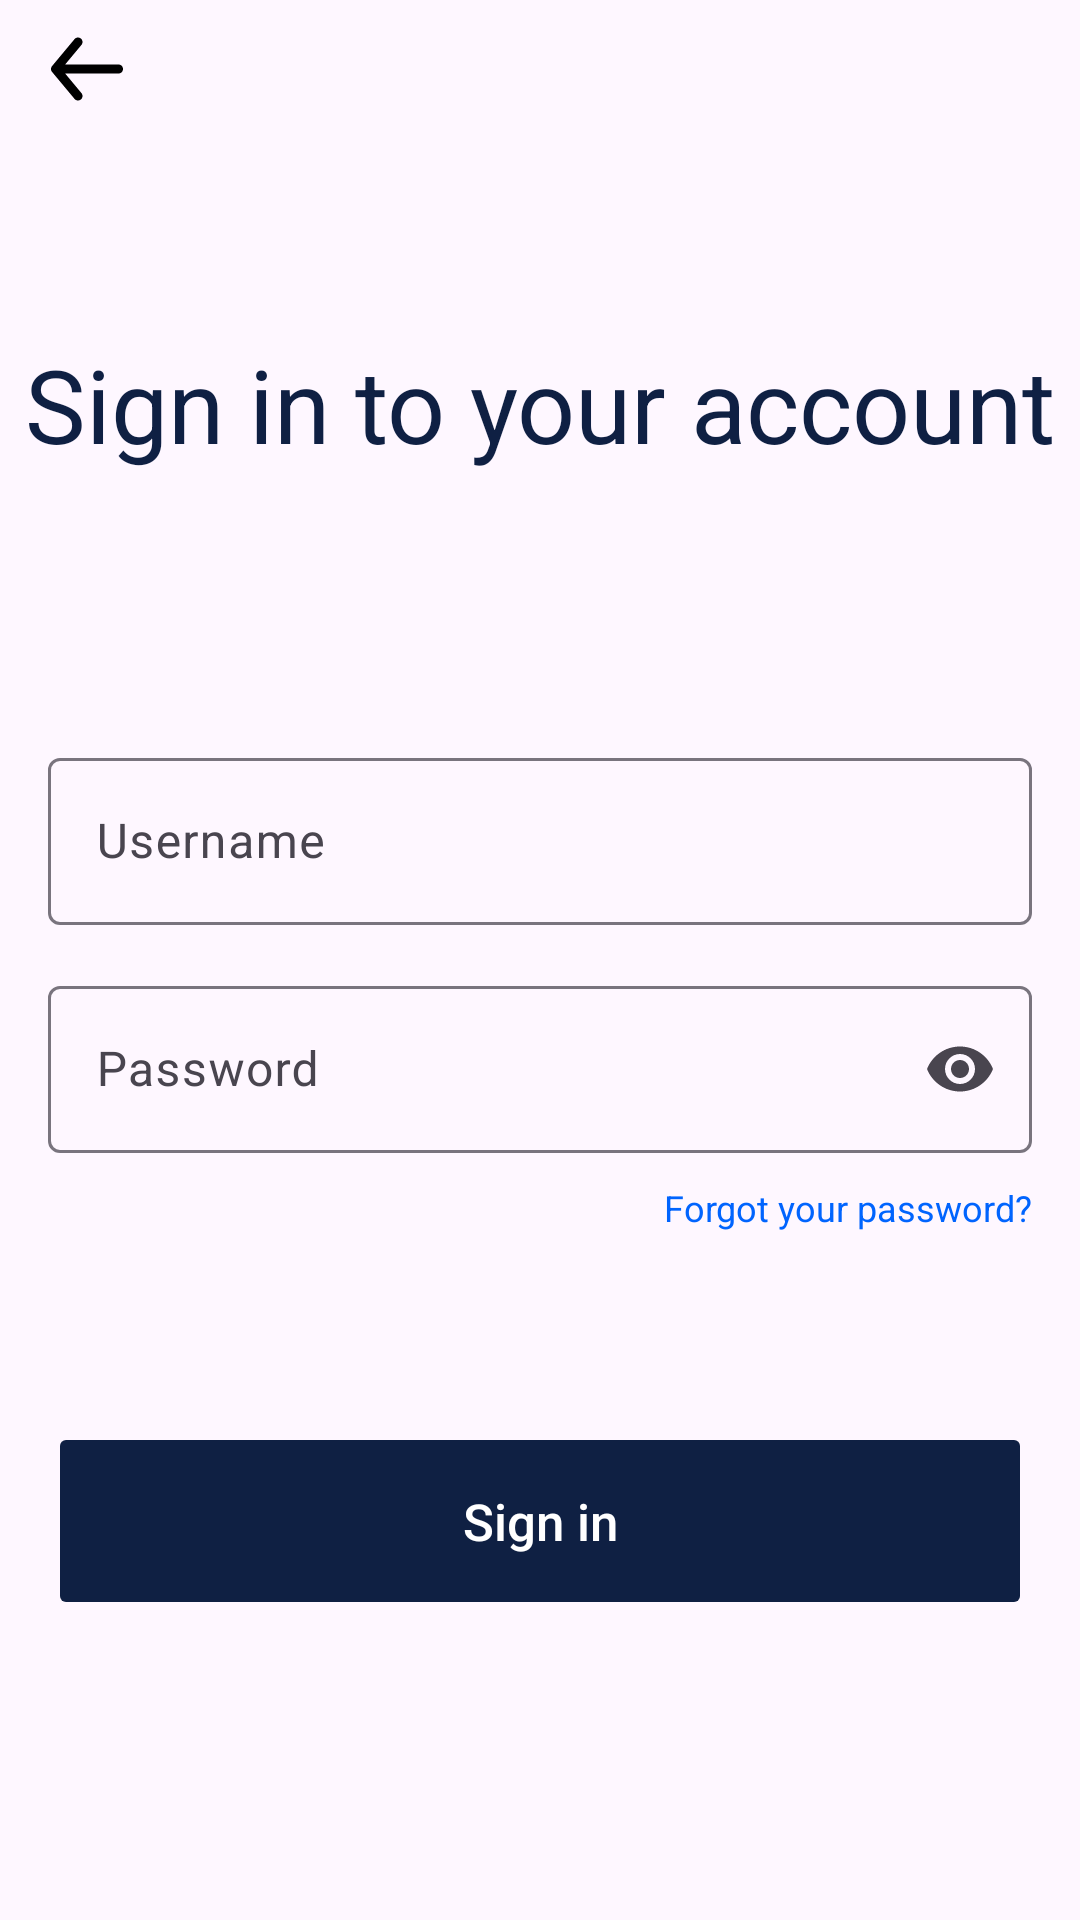

Screen size 1080 × 1920. Icon name, then its box in pixels as (x1, y1, x2, y2):
back: (51, 37, 123, 101)
